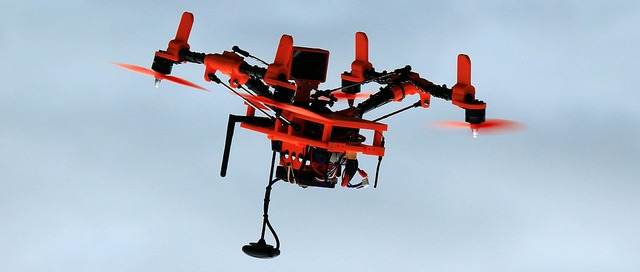drone: (113, 11, 530, 260)
